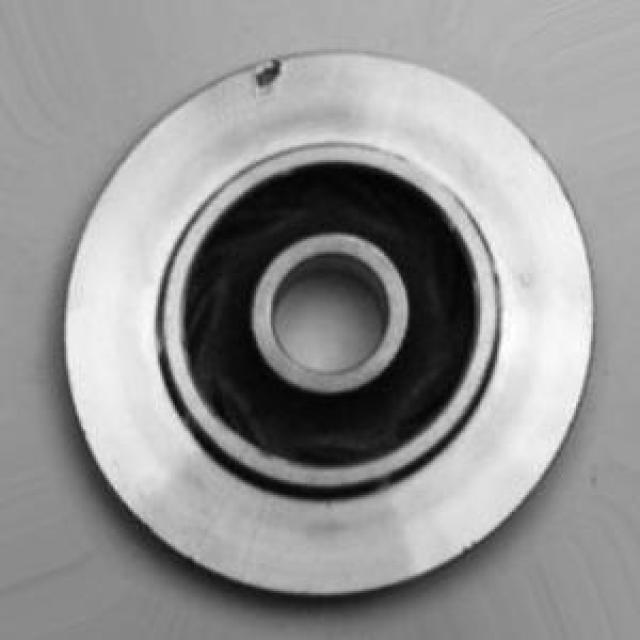Defect: (243, 52, 296, 91)
